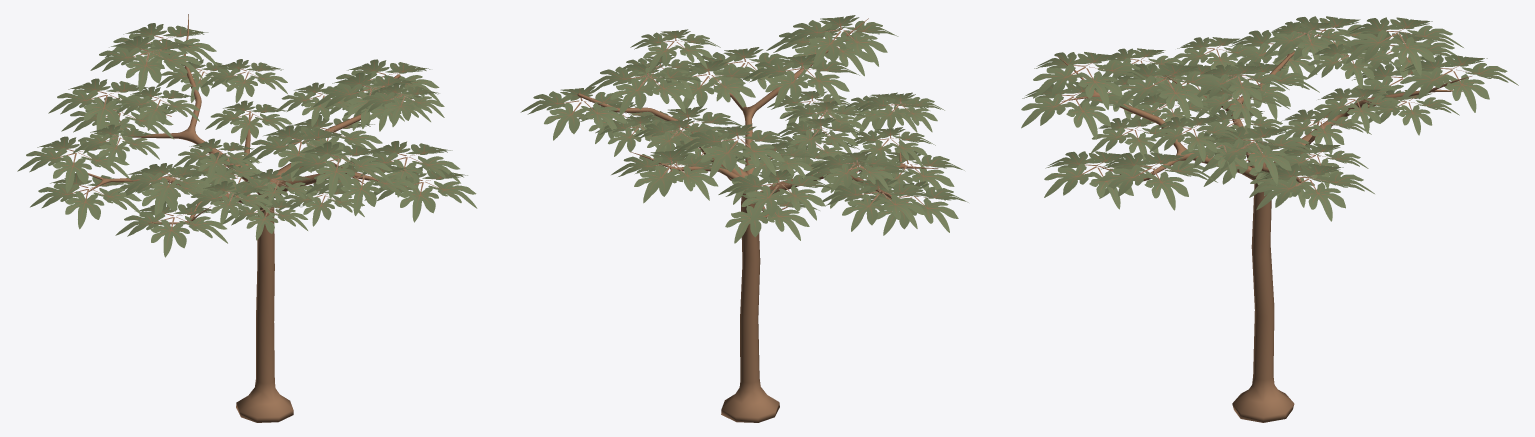
File: YarumoVerde.fbx
The picture shows the model from 3 angles, left to right: view 1: azimuth 30°, elevation 25°; view 2: azimuth 150°, elevation 25°; view 3: azimuth 270°, elevation 25°; orthographic projection. The views are drawn at different scales.
Visible parts, largest first — view 1: Plane.034, Plane; view 2: Plane.034, Plane; view 3: Plane.034, Plane.
Part boxes in pixels (<box>): Plane.034: <box>17,23,477,257</box>; Plane: <box>83,14,419,422</box>; Plane.034: <box>520,15,968,243</box>; Plane: <box>577,18,938,422</box>; Plane.034: <box>1021,16,1518,221</box>; Plane: <box>1056,28,1471,422</box>.
Size of the model in its own units: 2205 by 1639 by 2151.
